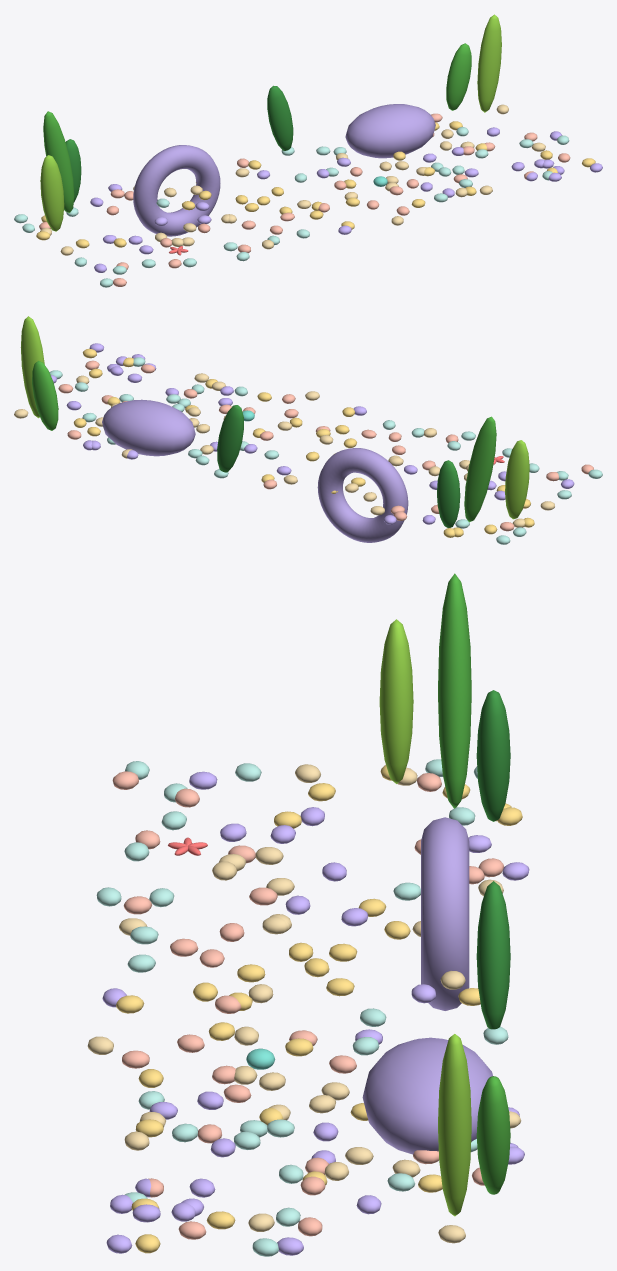
The model's file is TankBedLarge.fbx.
3 renders of one model, top to bottom at view 1: azimuth 30°, elevation 25°; view 2: azimuth 150°, elevation 25°; view 3: azimuth 270°, elevation 25°, orthographic. The views are drawn at different scales.
Visible parts, largest first — view 1: TankBedLarge mesh; view 2: TankBedLarge mesh; view 3: TankBedLarge mesh.
Part boxes in pixels (box(x1,y1,x2,y2)): TankBedLarge mesh: box(14, 14, 602, 287); TankBedLarge mesh: box(14, 316, 602, 544); TankBedLarge mesh: box(87, 573, 529, 1256).
Bounding box in the file's own units: 2.39 × 0.6945 × 0.9102.
